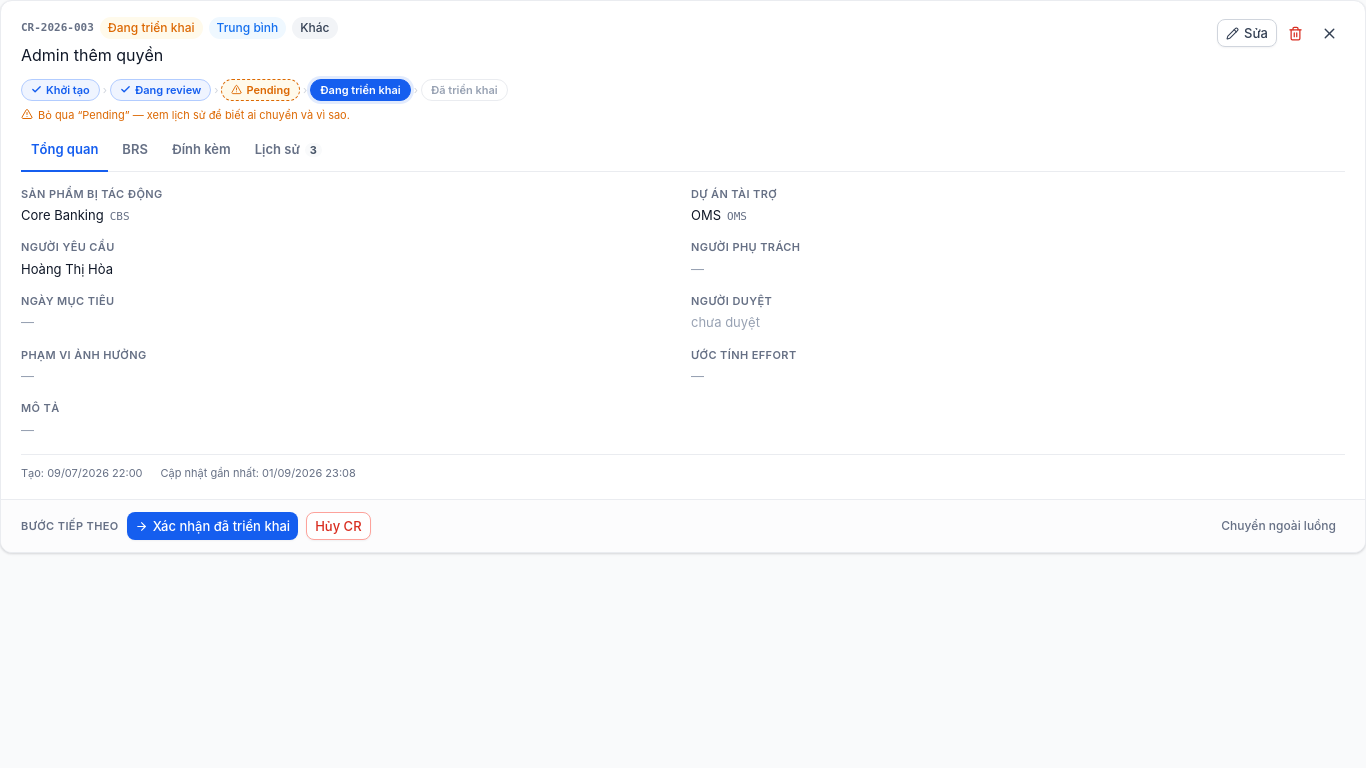
Scenario: CrDetailPanel — chuyển trạng thái theo luồng › lý do quá ngắn bị chặn ở giao diện, không để backend trả 400
Step 1. Click the button "Hủy CR" → (338, 526), box [306, 512, 371, 540]
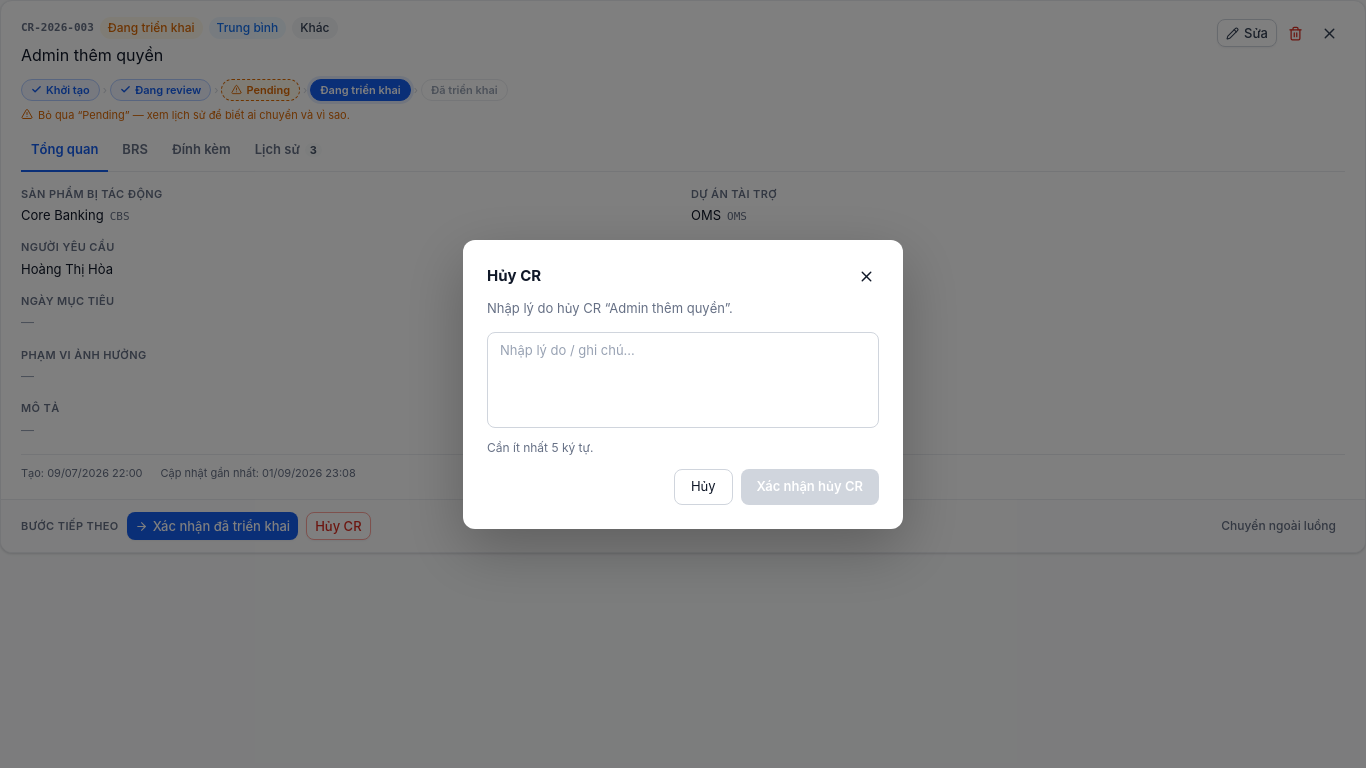
Step 2. Type "ok" into the text box with placeholder "Nhập lý do / ghi chú..." → (683, 380), box [487, 332, 879, 428]
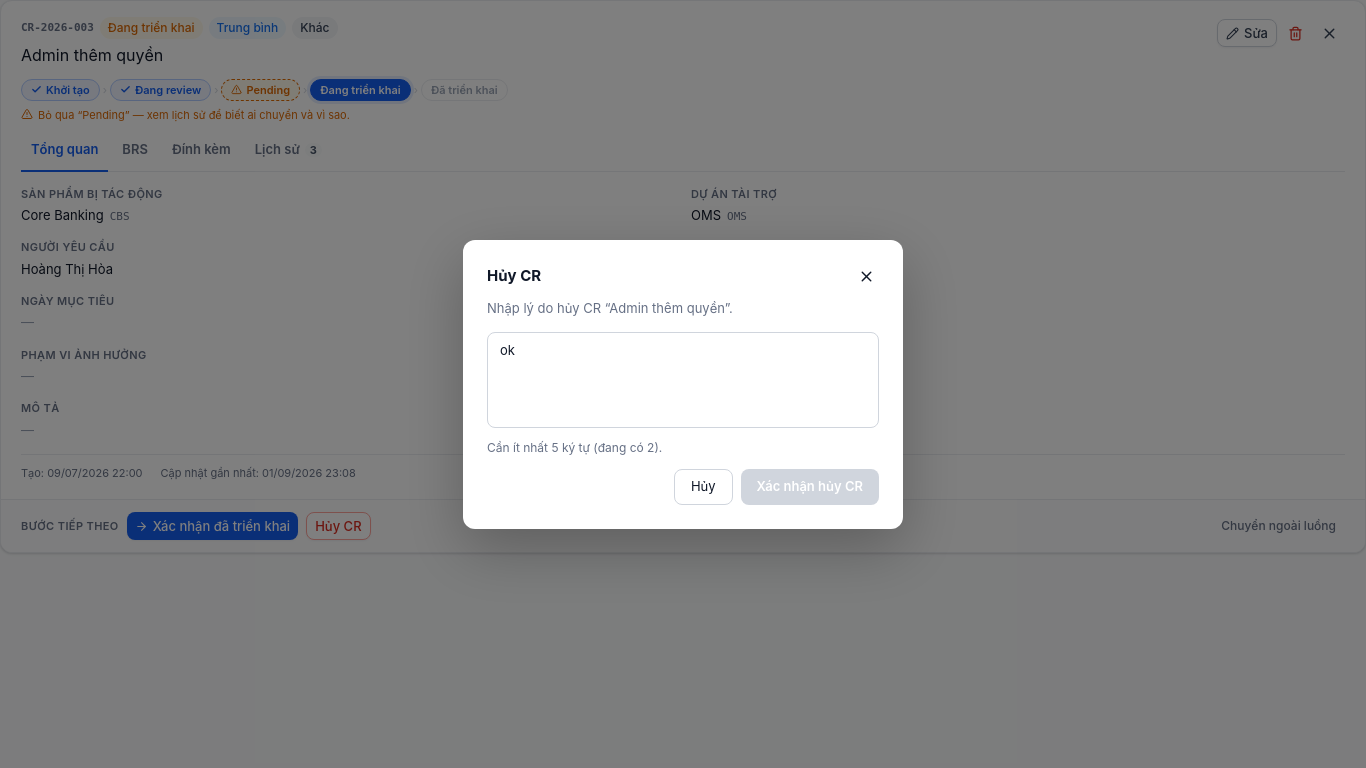
Result: the button "Xác nhận hủy CR" is disabled at [740, 469, 879, 504]
Result: the text "Cần ít nhất 5 ký tự (đang có 2)." is shown at [487, 440, 662, 455]
Step 3. Type "e nữa" into the text box with placeholder "Nhập lý do / ghi chú..." → (683, 380), box [487, 332, 879, 428]
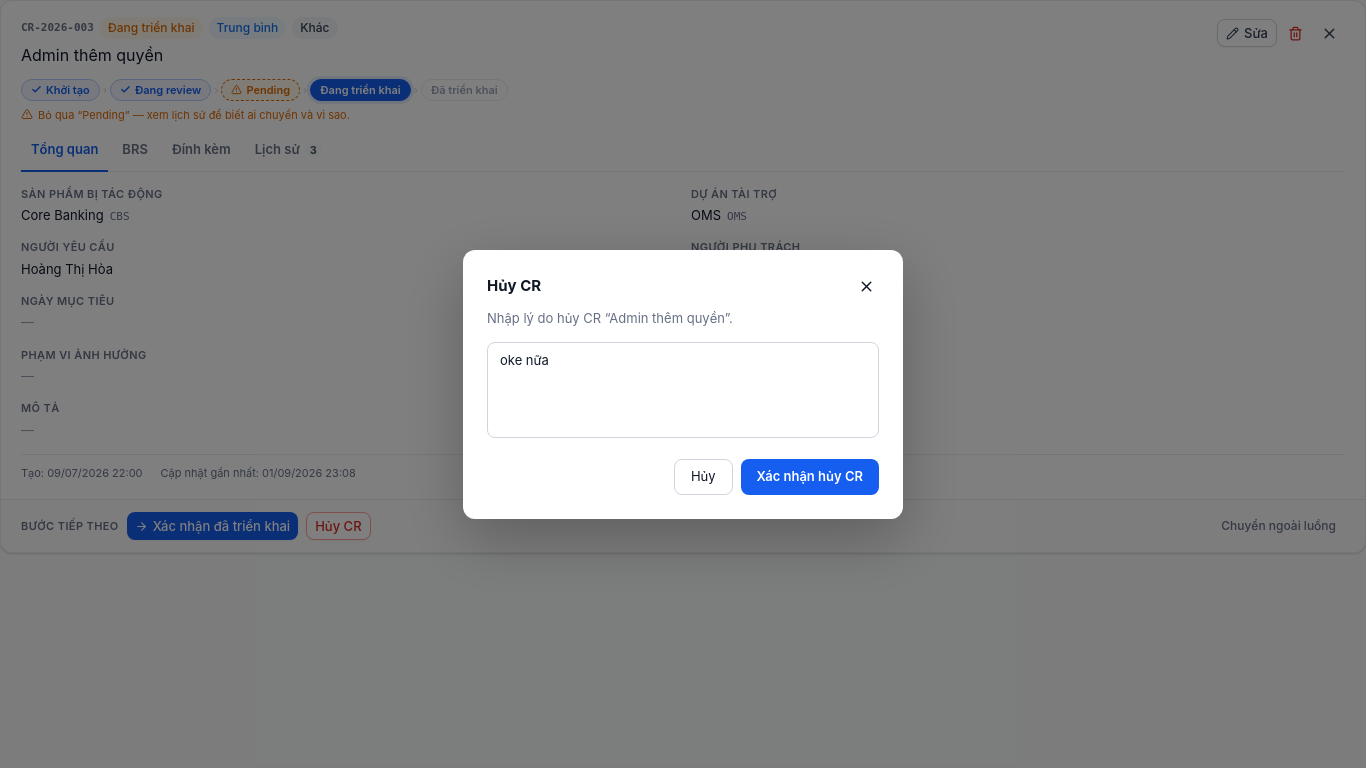
Result: the button "Xác nhận hủy CR" is enabled at [740, 459, 879, 494]
